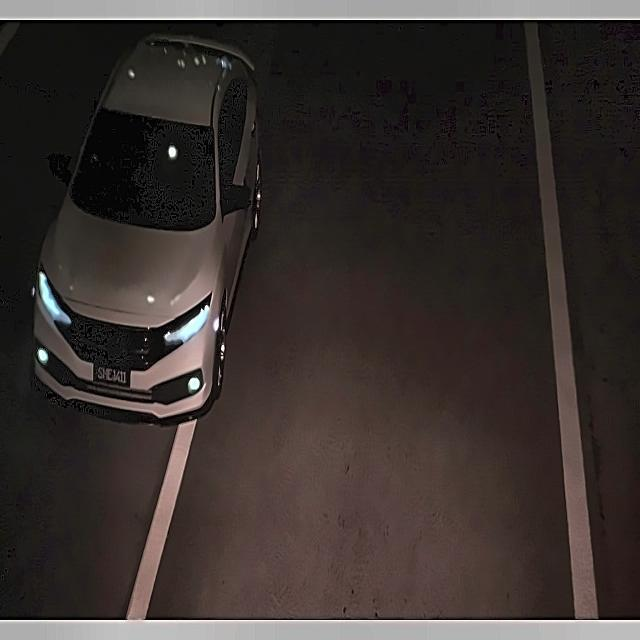car: (85, 360, 139, 396)
